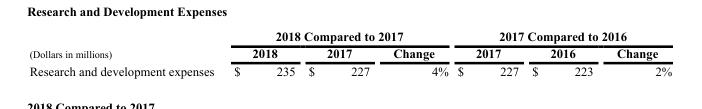table: (28, 28, 671, 77)
table column: (28, 28, 223, 77), (524, 28, 604, 77), (301, 28, 380, 77), (223, 28, 301, 77), (380, 28, 452, 77), (452, 28, 524, 77), (604, 28, 671, 77)
table column header: (28, 28, 671, 62)
table row: (28, 44, 671, 62), (28, 28, 671, 44), (28, 62, 671, 77)
table spanning cell: (28, 28, 223, 62), (223, 28, 452, 44), (452, 28, 671, 44)
